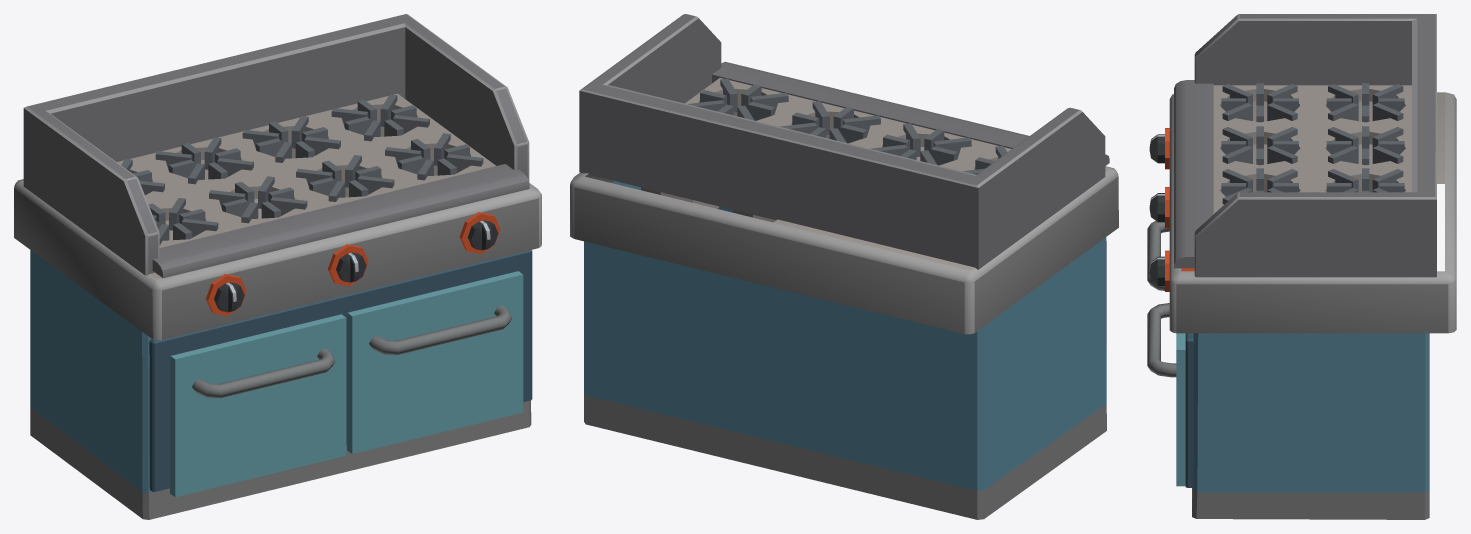
Rendered from Cooking_02.fbx.
3 renders of one model, left to right at view 1: azimuth 30°, elevation 25°; view 2: azimuth 150°, elevation 25°; view 3: azimuth 270°, elevation 25°, orthographic. The views are drawn at different scales.
Parts seen in each view (by area): view 1: Cooking_02; view 2: Cooking_02; view 3: Cooking_02.
Part boxes in pixels (bbox=[...]): Cooking_02: bbox=[14, 14, 541, 519]; Cooking_02: bbox=[570, 14, 1118, 519]; Cooking_02: bbox=[1147, 14, 1456, 519].
Size of the model in its own units: 2.3 by 1.83 by 1.6.
